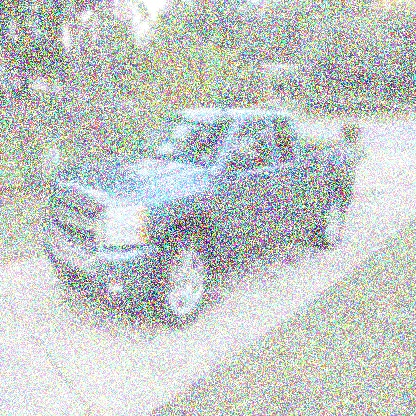Vehicle: (40, 106, 358, 330)
